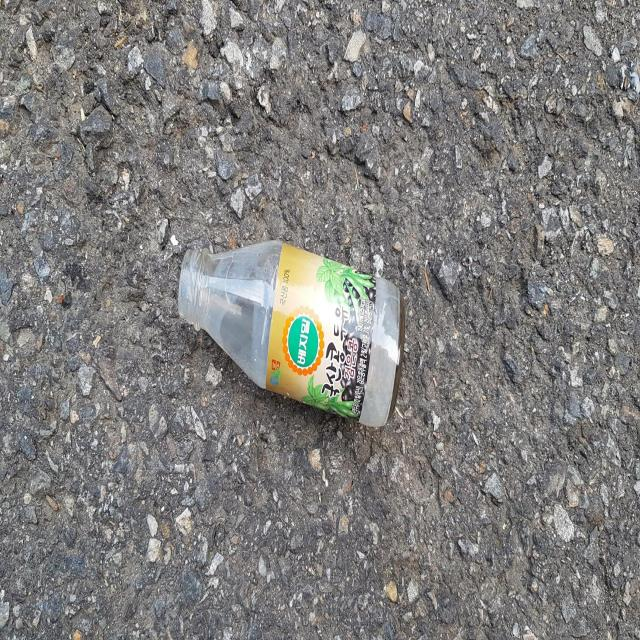glass: (178, 240, 405, 426)
